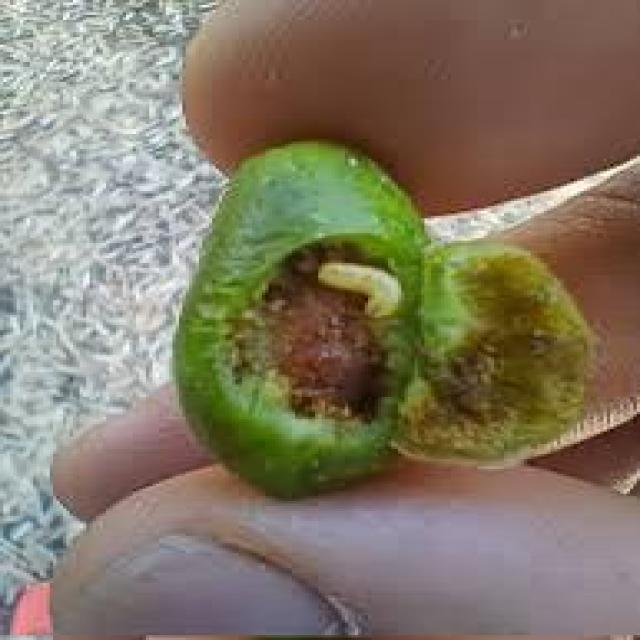Olive Fruit Fly: (176, 141, 591, 496)
